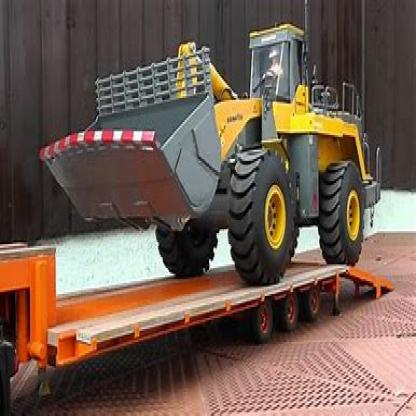bull_dozer/loader/grader: (36, 14, 382, 274)
